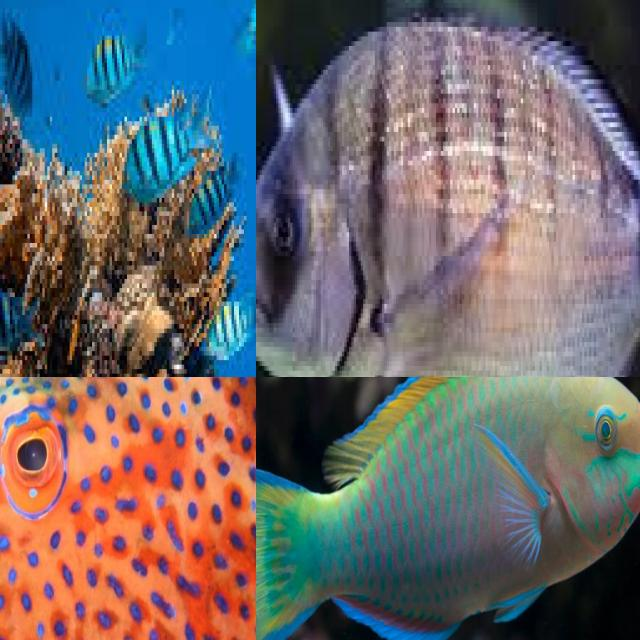fish: (256, 48, 640, 377), (0, 0, 256, 377), (356, 377, 640, 640), (0, 377, 256, 640)
